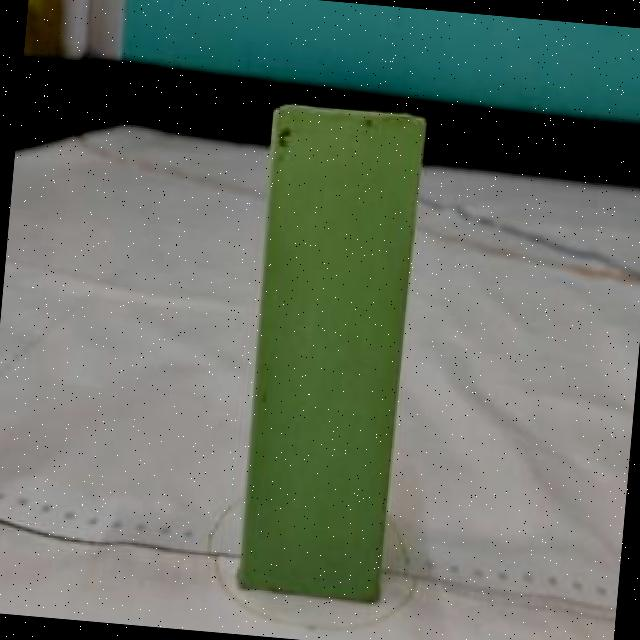greenbox: (234, 104, 423, 604)
